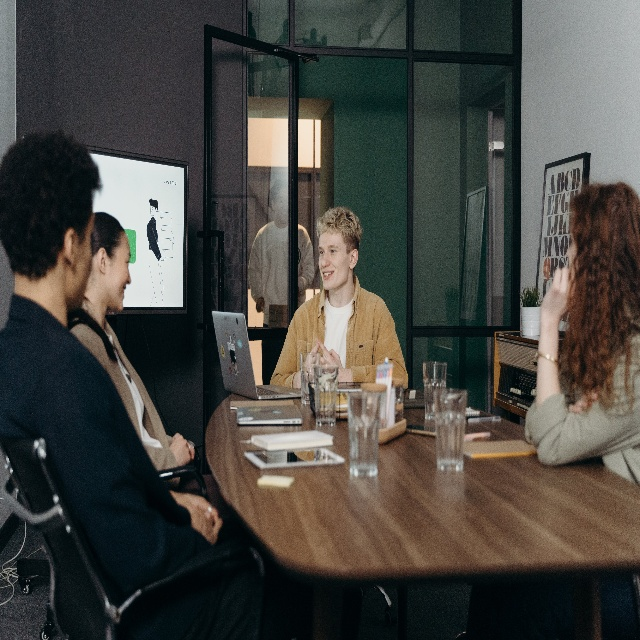Sin_guantes: (188, 494, 225, 543), (540, 268, 569, 321), (319, 344, 343, 381), (172, 433, 189, 460)
